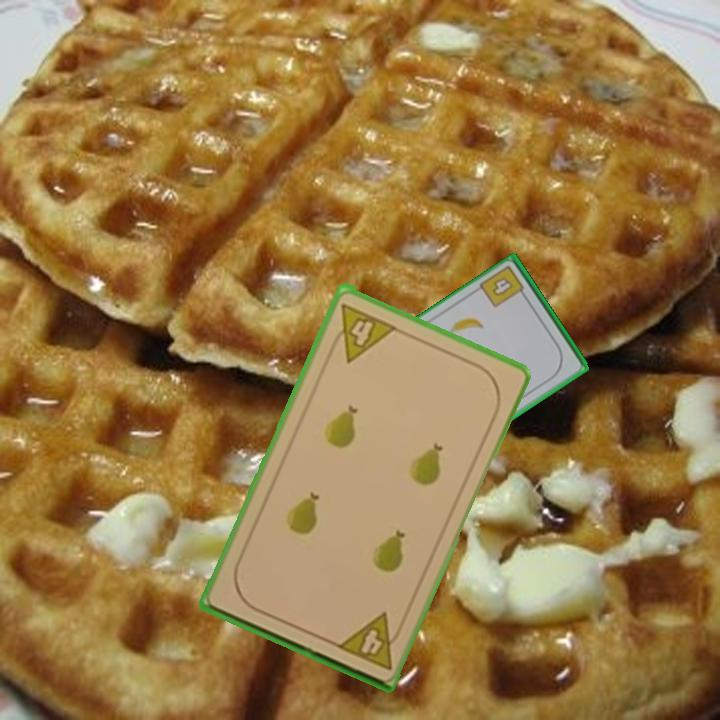4b: (476, 262, 530, 311)
4p: (324, 299, 400, 365), (333, 609, 407, 673)
